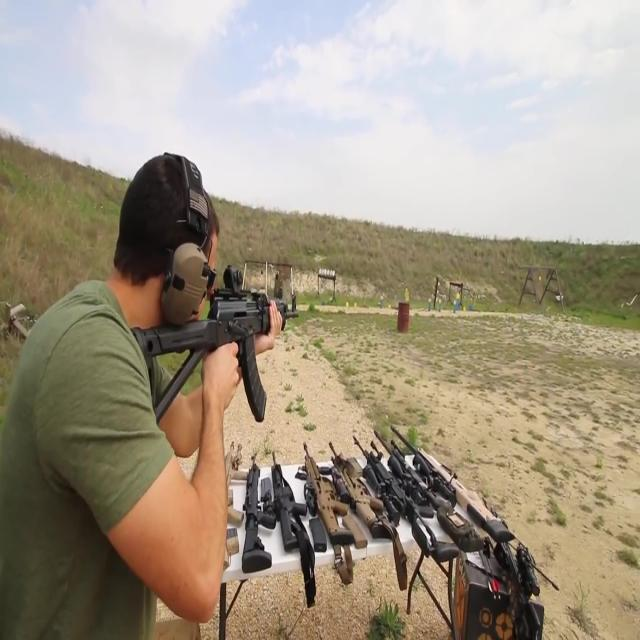Weapon: (162, 422, 539, 588), (104, 247, 302, 432)
